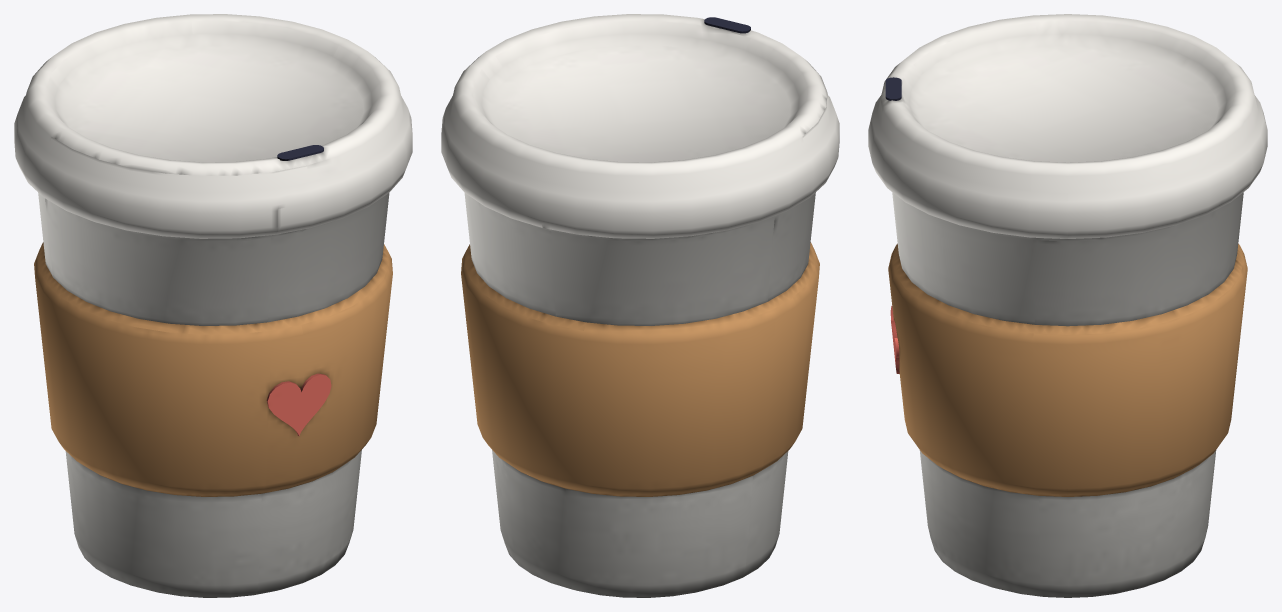
The model's file is coffee_cup.glb.
The picture shows the model from 3 angles, left to right: view 1: azimuth 30°, elevation 25°; view 2: azimuth 150°, elevation 25°; view 3: azimuth 270°, elevation 25°; orthographic projection.
Parts seen in each view (by area): view 1: coffee_cup; view 2: coffee_cup; view 3: coffee_cup.
Part boxes in pixels (x1,y1,x2,y2): coffee_cup: (14, 14, 412, 597); coffee_cup: (441, 14, 839, 597); coffee_cup: (868, 14, 1267, 597).
Bounding box in the file's own units: 0.0934 × 0.1181 × 0.0934.
Materials: 5 (5 with a texture image).
